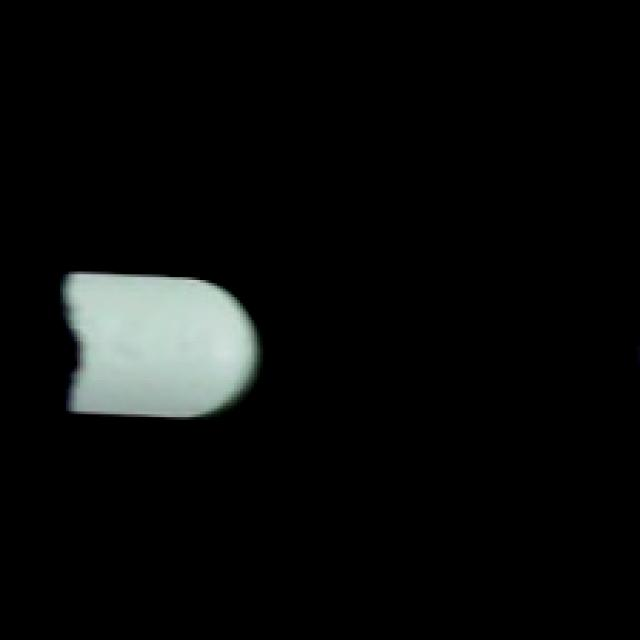defected: (57, 263, 263, 426)
